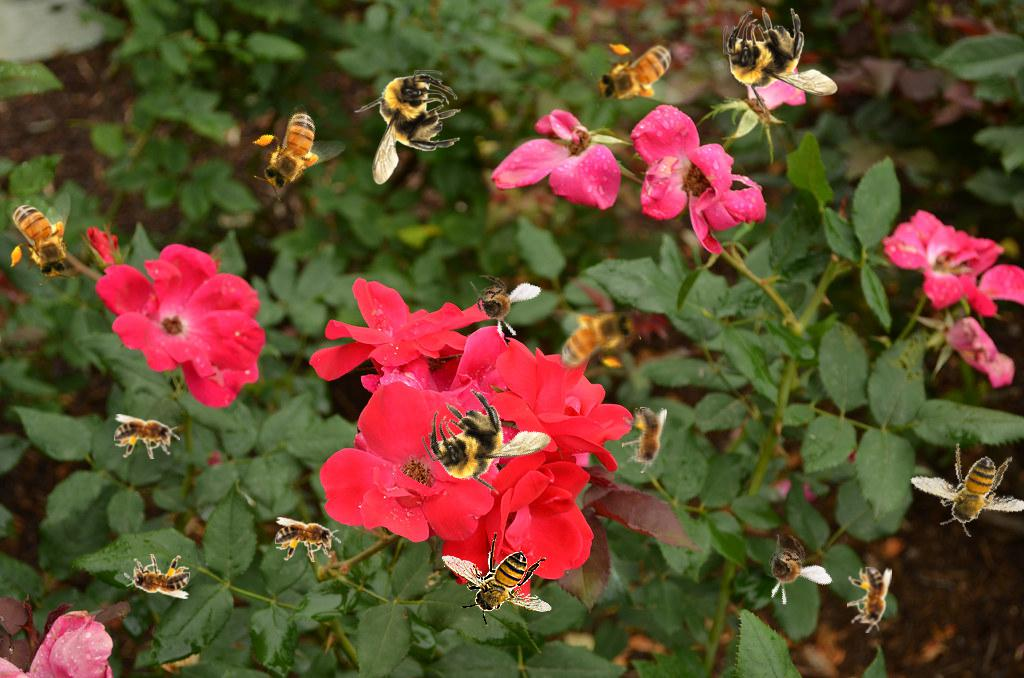Bee: (410, 365, 563, 516), (903, 430, 1024, 548), (235, 95, 351, 206), (723, 7, 838, 114), (354, 70, 461, 185), (441, 532, 552, 626), (743, 522, 834, 616), (454, 262, 543, 346), (591, 40, 684, 108), (548, 304, 641, 372), (7, 192, 75, 285), (275, 517, 341, 562), (124, 554, 190, 599), (622, 407, 667, 473), (847, 567, 892, 633), (114, 414, 180, 459)
